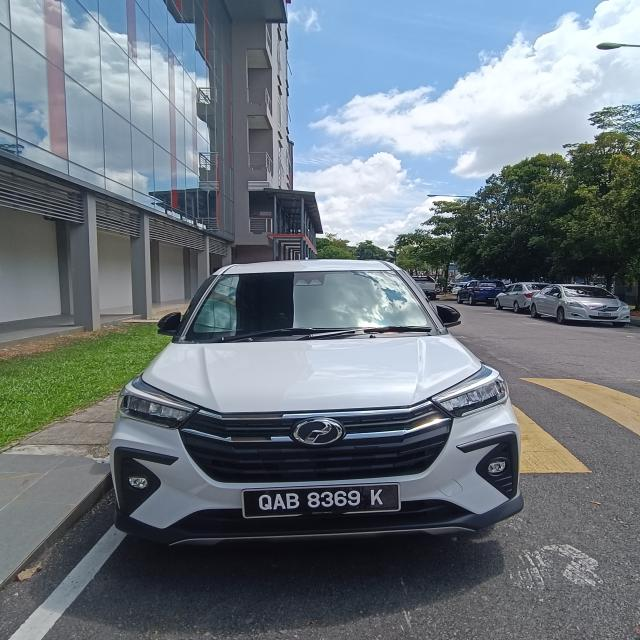PeroduaAtiva: (107, 257, 525, 547)
